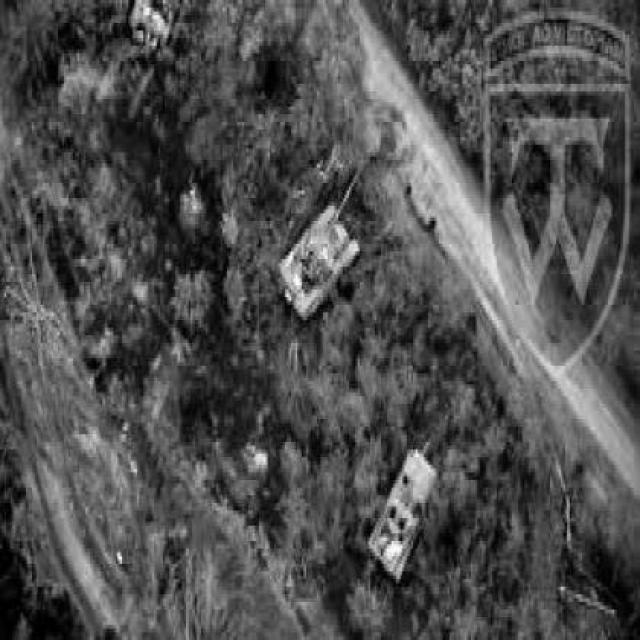tank: (274, 162, 363, 322), (365, 430, 440, 588), (128, 0, 175, 52)
